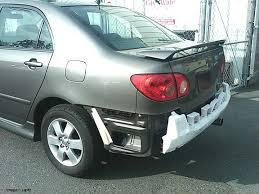rear-bumper-dent: (101, 110, 195, 152)
